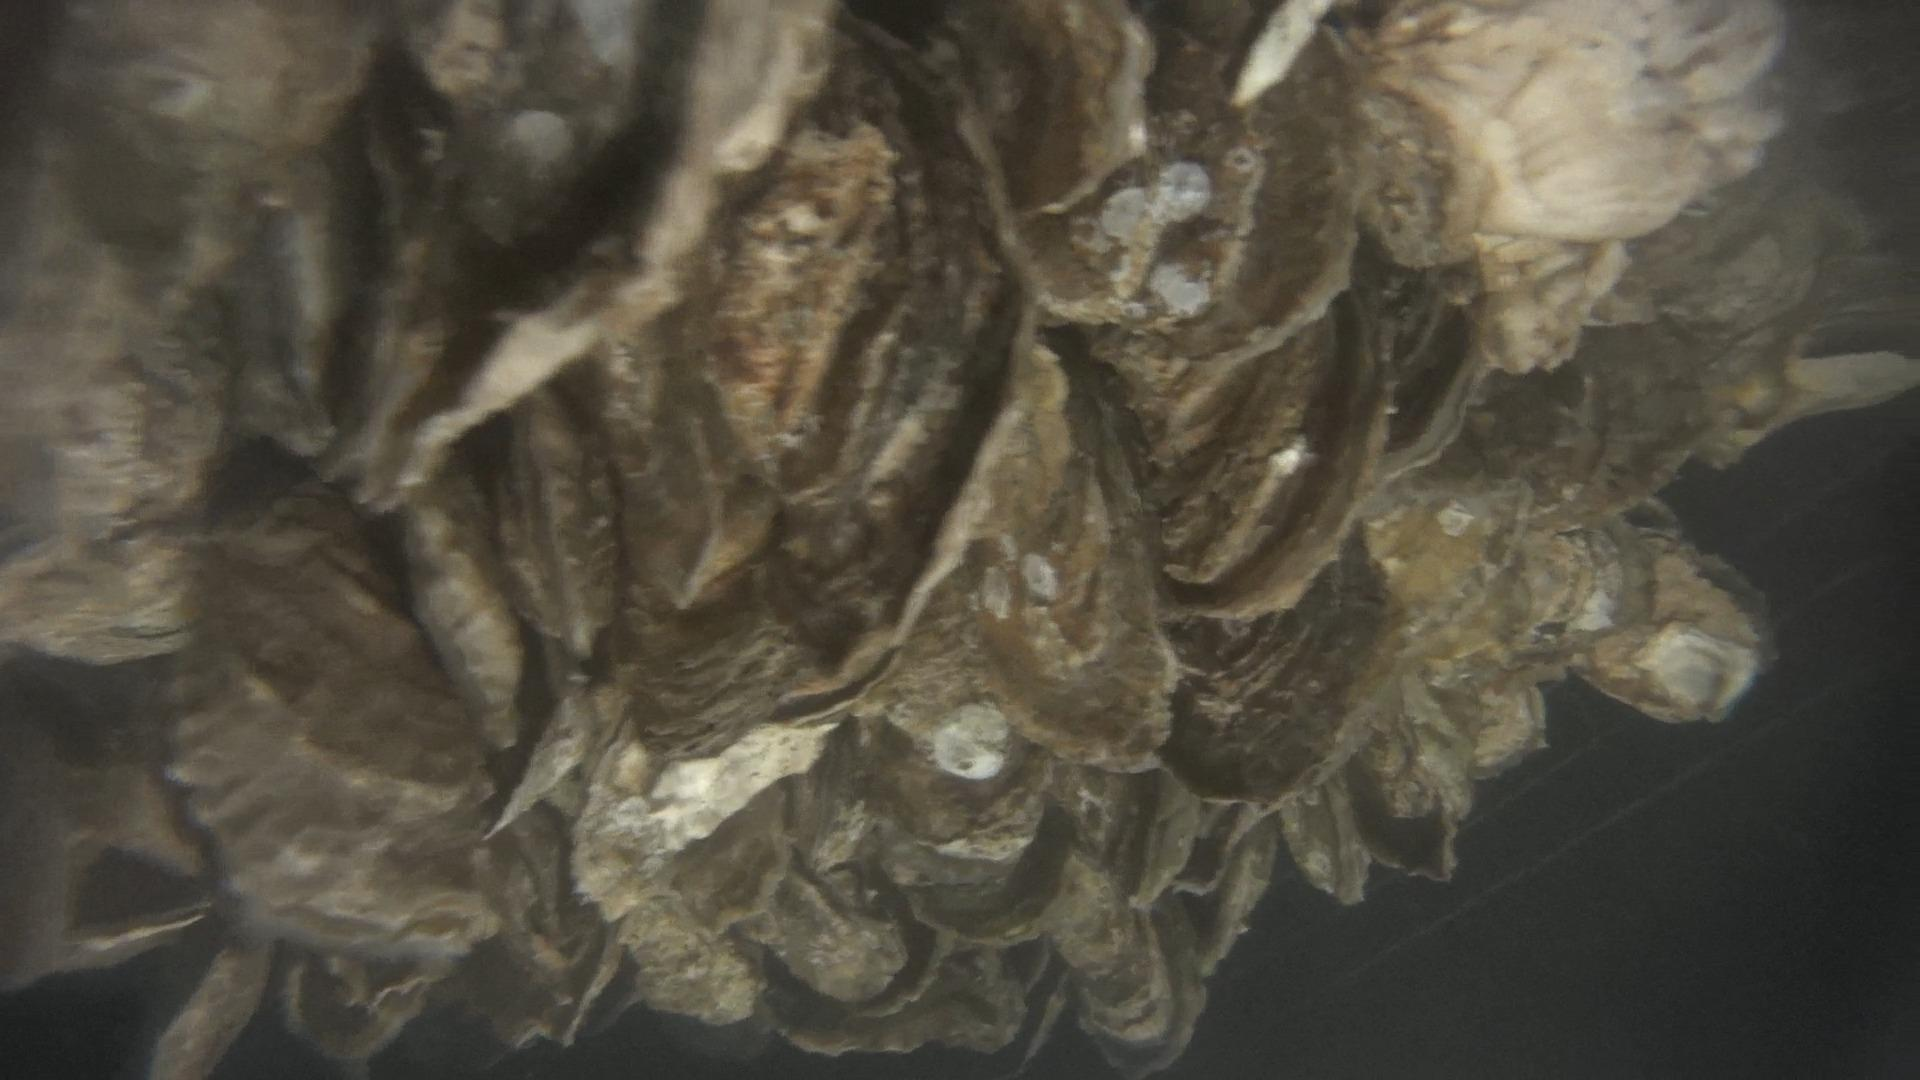3: (749, 15, 1040, 707), (166, 491, 497, 961), (691, 58, 932, 514), (1145, 290, 1389, 617), (952, 0, 1155, 210), (1572, 543, 1776, 728), (496, 386, 617, 658), (1358, 245, 1486, 487), (489, 803, 607, 1004), (69, 880, 207, 957)
Oyster-Closed: (360, 0, 841, 504), (295, 142, 462, 481), (571, 340, 762, 597), (402, 465, 524, 749), (909, 804, 1076, 945), (115, 944, 270, 1080), (673, 783, 790, 934), (495, 687, 593, 824), (796, 721, 876, 873)
Oyster-Open: (1022, 26, 1358, 425), (1, 125, 232, 674), (1364, 0, 1785, 262), (21, 0, 368, 277), (978, 343, 1178, 769), (1163, 531, 1396, 804), (380, 0, 641, 244), (1619, 99, 1845, 352), (572, 724, 833, 919), (1474, 316, 1710, 521), (1367, 495, 1627, 669), (216, 162, 352, 465), (1680, 347, 1920, 477), (765, 945, 1047, 1054), (584, 596, 781, 745), (1470, 229, 1646, 384), (862, 723, 1052, 862), (1050, 849, 1178, 1040), (872, 611, 1014, 781), (752, 872, 909, 1001), (1095, 898, 1207, 1079), (618, 895, 762, 1025), (1187, 815, 1282, 978), (1369, 674, 1474, 816), (1348, 752, 1460, 873), (1283, 775, 1373, 905), (1445, 676, 1545, 778), (1130, 769, 1197, 916)
